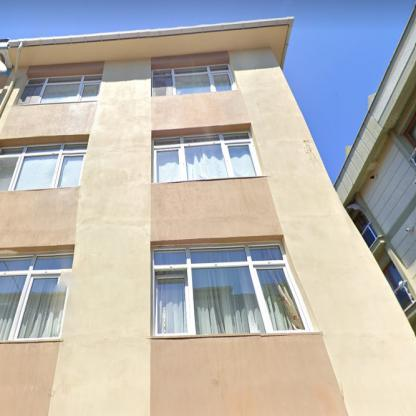window: (152, 244, 306, 334), (1, 254, 74, 340), (153, 131, 260, 182), (0, 142, 88, 190), (151, 63, 235, 96), (16, 73, 102, 104)
